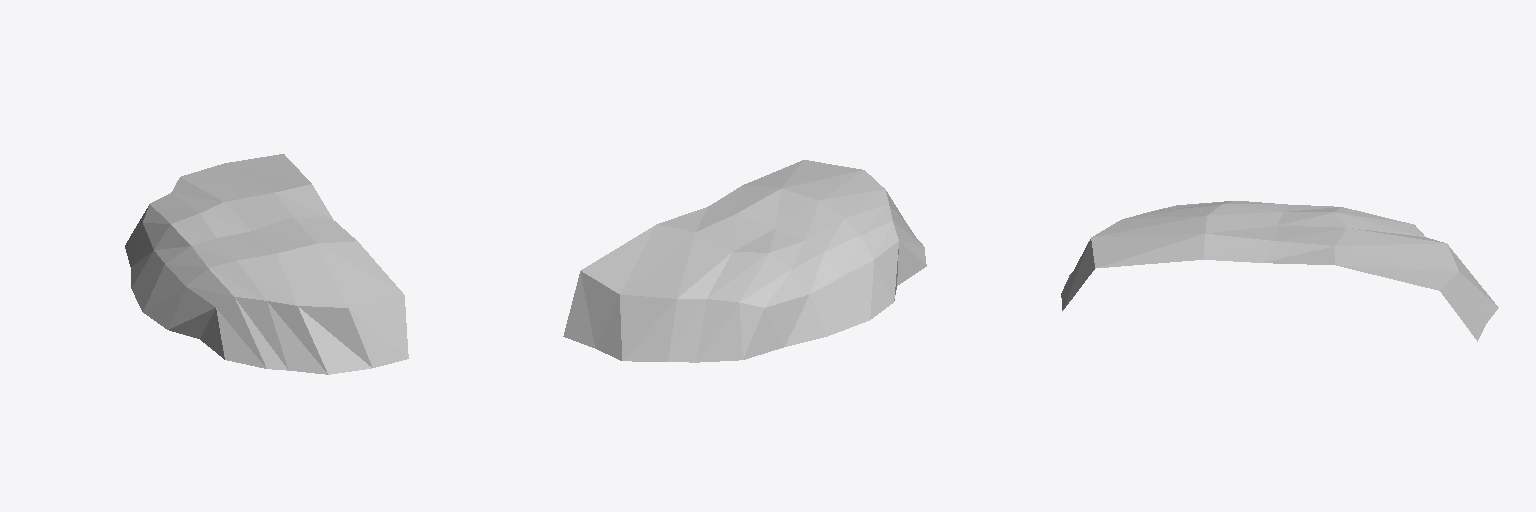
Rendered from shore.obj.
3 renders of one model, left to right at view 1: azimuth 30°, elevation 25°; view 2: azimuth 150°, elevation 25°; view 3: azimuth 270°, elevation 25°, orthographic.
Visible parts, largest first — view 1: Plane; view 2: Plane; view 3: Plane.
Boxes of the visible parts, x1,y1,x2,y2 form: Plane: [125, 154, 408, 374]; Plane: [563, 160, 926, 362]; Plane: [1061, 201, 1498, 341].
Bounding box in the file's own units: 11.96 × 3.62 × 21.05.